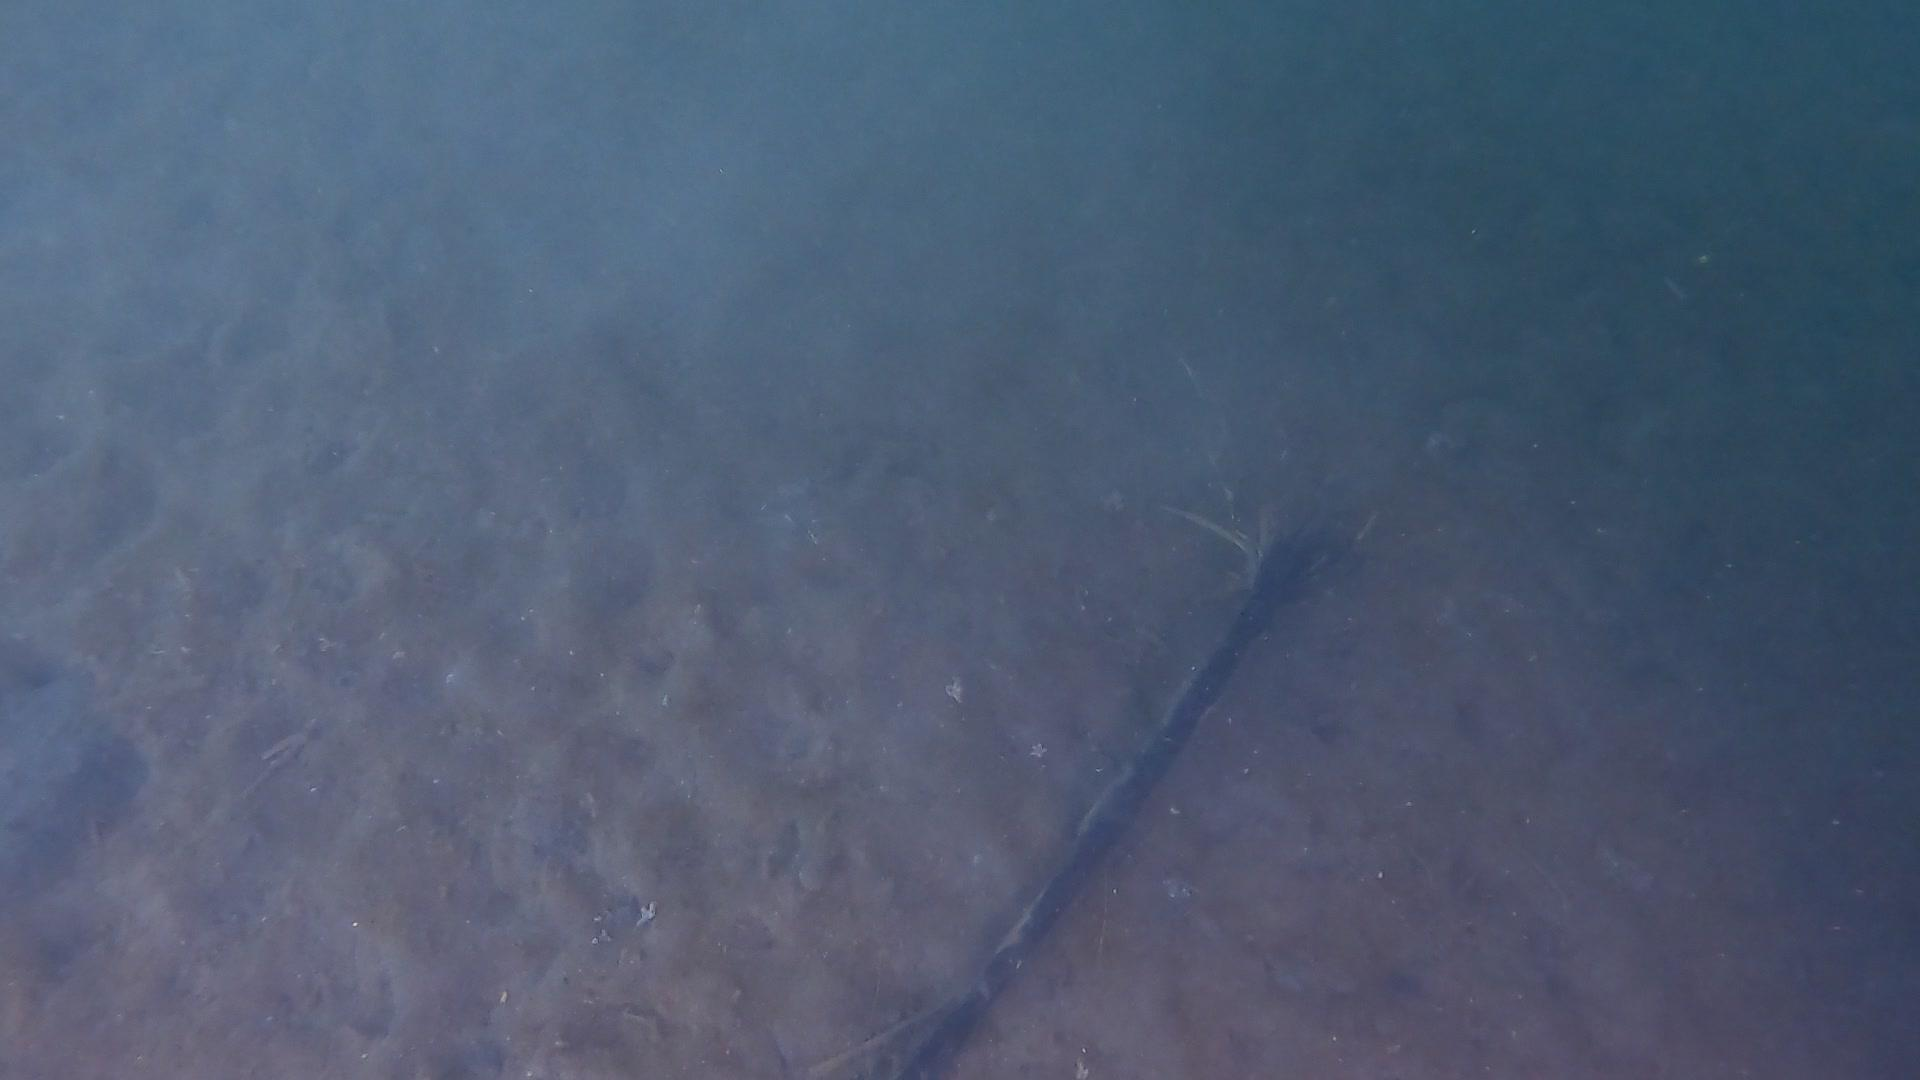wood: (793, 502, 1375, 1080)
